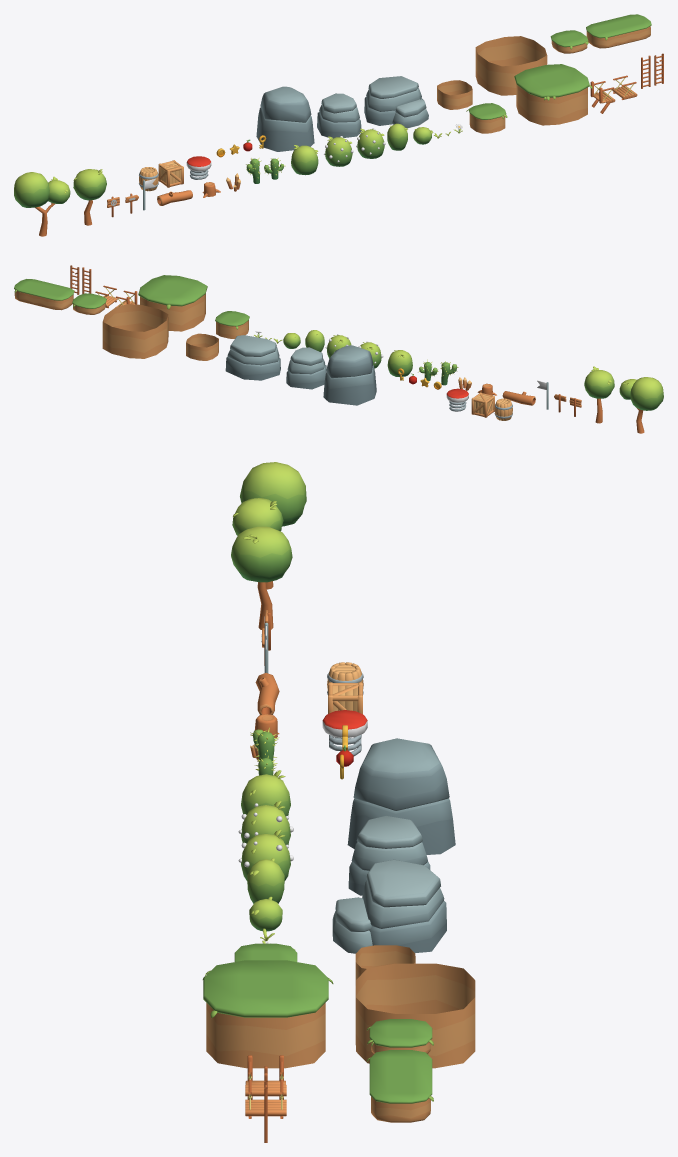
The picture shows the model from 3 angles, top to bottom: view 1: azimuth 30°, elevation 25°; view 2: azimuth 150°, elevation 25°; view 3: azimuth 270°, elevation 25°; orthographic projection. The views are drawn at different scales.
Visible parts, largest first — view 1: ground 02, rock 03, ground 02 tile, rock 02, tree 01, rock 01, platform 02, tree 02, ground 01, ground 01 tile, platform 01, bush 03 (+8 smaller); view 2: ground 02 tile, ground 02, rock 03, rock 02, rock 01, platform 02, tree 01, tree 02, ground 01, ground 01 tile, platform 01, bush 01 (+7 smaller); view 3: ground 02, ground 02 tile, rock 03, rock 02, platform 02, tree 01, rock 01, tree 02, platform 01, bush 02, bush 01, bush 03 (+5 smaller).
Boxes of the visible parts, <box> form: ground 02: <box>514,64,592,125</box>; rock 03: <box>256,86,314,151</box>; ground 02 tile: <box>475,36,547,95</box>; rock 02: <box>364,76,428,128</box>; tree 01: <box>14,172,70,236</box>; rock 01: <box>317,93,361,138</box>; platform 02: <box>586,14,651,48</box>; tree 02: <box>73,169,106,225</box>; ground 01: <box>466,103,507,133</box>; ground 01 tile: <box>437,80,472,109</box>; platform 01: <box>550,30,588,53</box>; bush 03: <box>324,136,353,166</box>; ground 02 tile: <box>102,304,168,358</box>; ground 02: <box>138,275,207,331</box>; rock 03: <box>323,345,376,405</box>; rock 02: <box>225,335,280,380</box>; rock 01: <box>286,347,326,389</box>; platform 02: <box>14,279,74,310</box>; tree 01: <box>619,377,663,433</box>; tree 02: <box>584,366,614,423</box>; ground 01: <box>215,311,249,338</box>; ground 01 tile: <box>186,333,218,360</box>; platform 01: <box>72,293,106,314</box>; bush 01: <box>387,350,412,376</box>; ground 02: <box>202,960,333,1068</box>; ground 02 tile: <box>355,963,475,1068</box>; rock 03: <box>347,738,455,854</box>; rock 02: <box>332,859,446,953</box>; platform 02: <box>367,1050,433,1122</box>; tree 01: <box>232,462,306,589</box>; rock 01: <box>348,816,430,895</box>; tree 02: <box>231,526,292,629</box>; platform 01: <box>367,1019,433,1053</box>; bush 02: <box>238,829,293,880</box>; bush 01: <box>241,770,290,816</box>; bush 03: <box>238,801,293,844</box>.
Size of the model in its own units: 4725 by 492 by 912.
3 materials, 1 textured.
